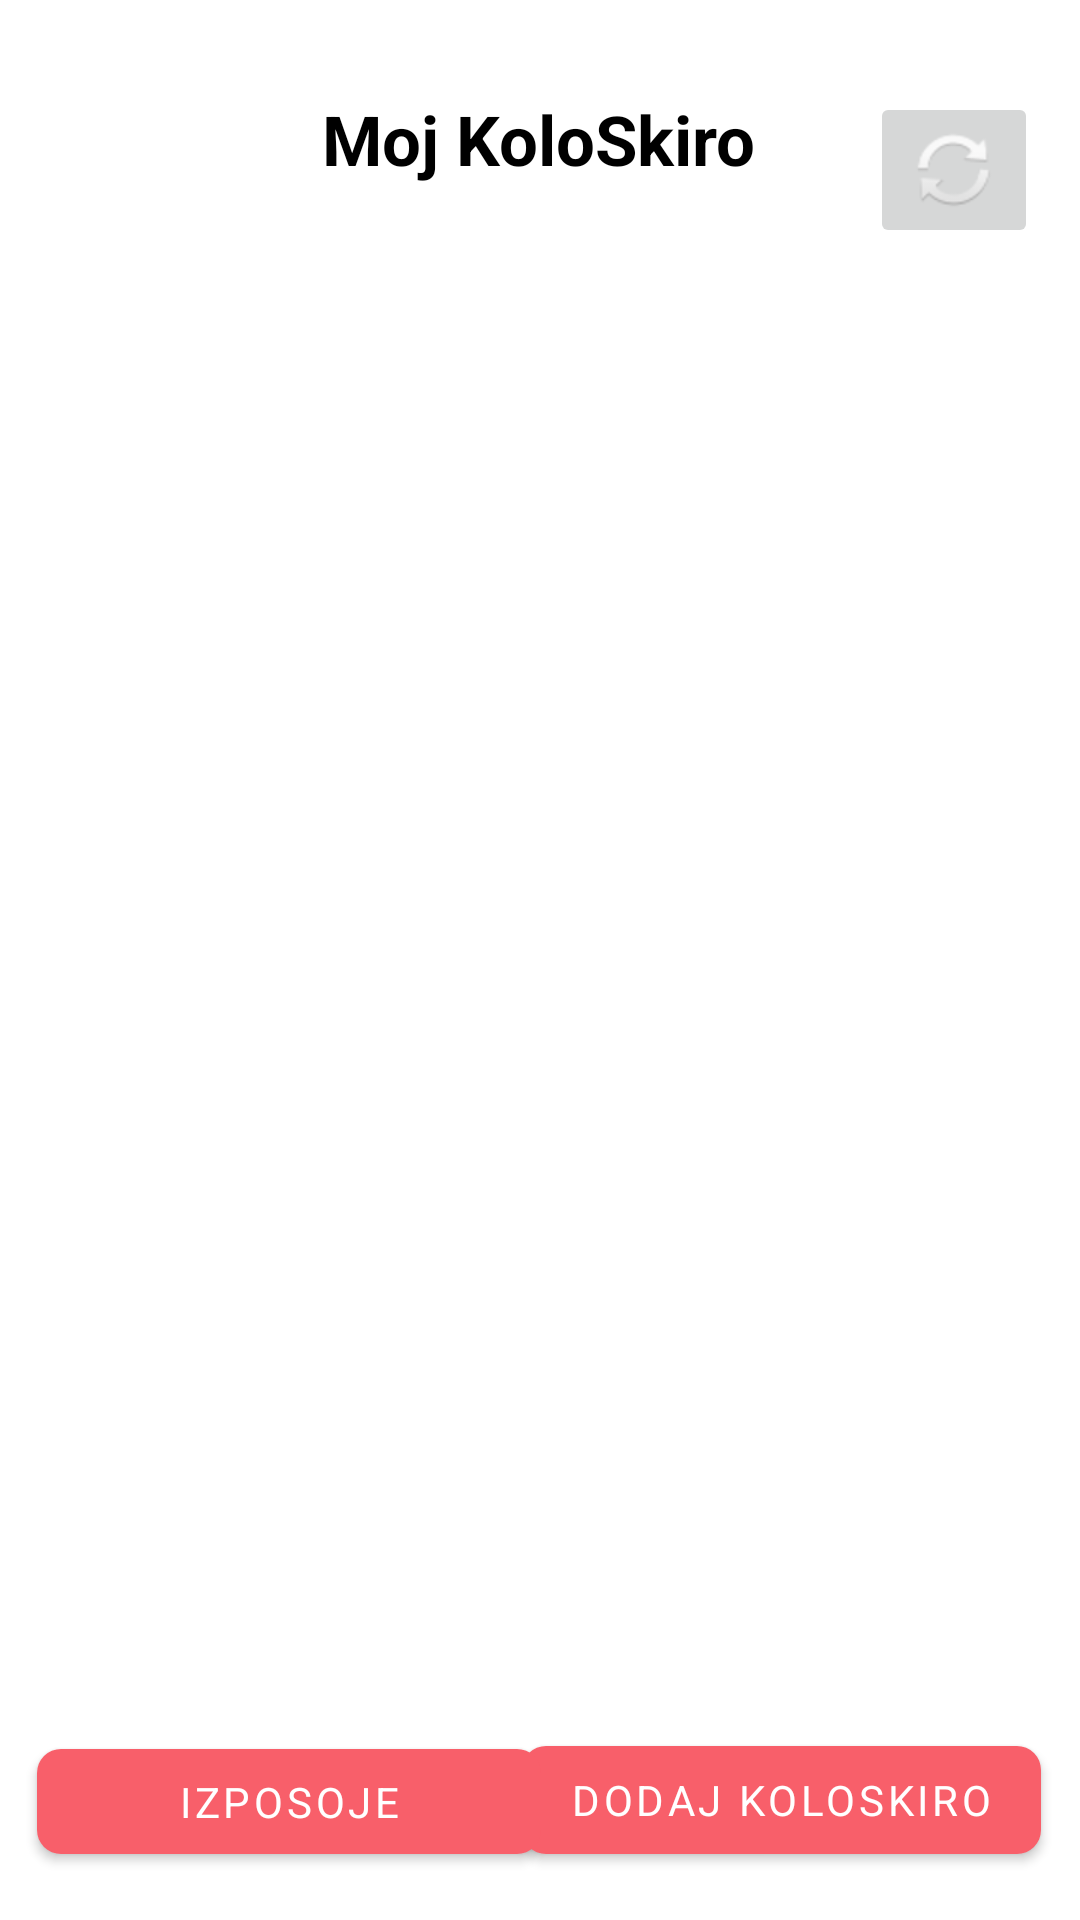

Icons on this 1080 x 1920 Android screen, each with the point to tap as (x=x, y=y):
popup sync: (x=954, y=170)
